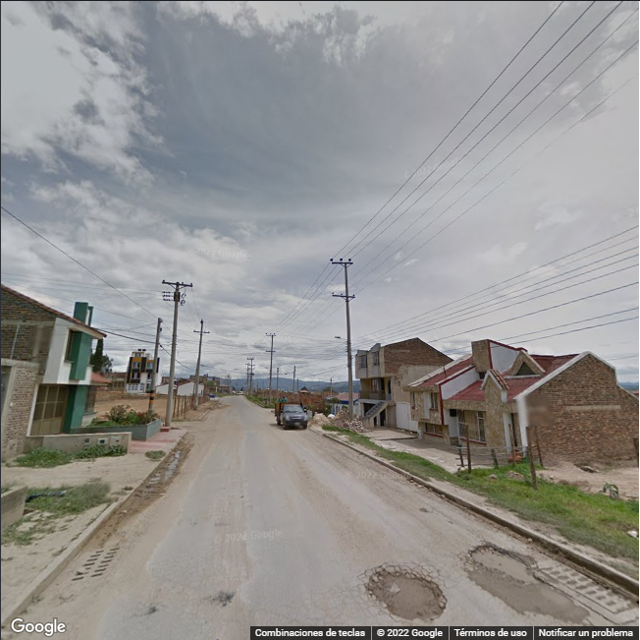D40: (362, 566, 454, 621), (466, 536, 533, 586)
